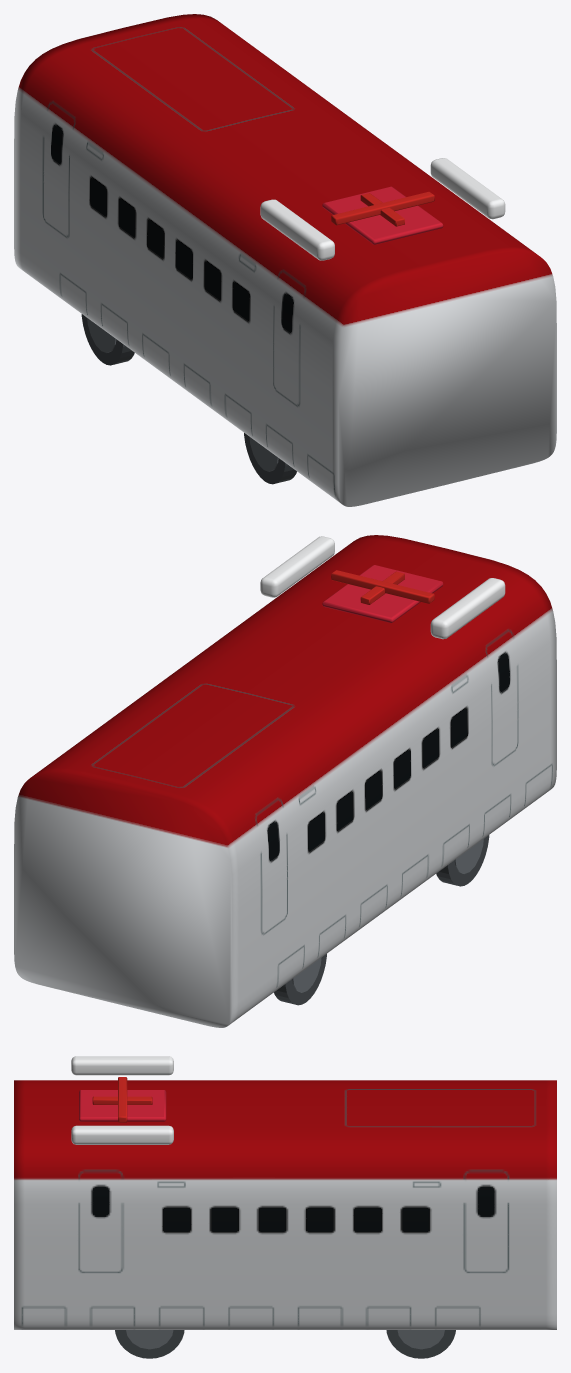
Rendered from Express_Red_Middle.fbx.
The picture shows the model from 3 angles, top to bottom: view 1: azimuth 30°, elevation 25°; view 2: azimuth 150°, elevation 25°; view 3: azimuth 270°, elevation 25°; orthographic projection. The views are drawn at different scales.
Parts seen in each view (by area): view 1: ER_Middle_Atlas shell, Pantograph base.001, Pantograph white noise shield, Pantograph white noise shield.001, Static fittings EG Photo red fittings, Static fittings EG wheel graphite.002, Static fittings EG hub grey.002; view 2: ER_Middle_Atlas shell, Pantograph base.001, Pantograph white noise shield.001, Pantograph white noise shield, Static fittings EG Photo red fittings, Static fittings EG wheel graphite.002, Static fittings EG hub grey.002; view 3: ER_Middle_Atlas shell, Pantograph base.001, Pantograph white noise shield.001, Pantograph white noise shield, Static fittings EG wheel graphite.002, Static fittings EG hub grey.002, Static fittings EG Photo red fittings.
Boxes of the visible parts, x1,y1,x2,y2 form: ER_Middle_Atlas shell: [14, 14, 556, 506]; Pantograph base.001: [322, 186, 443, 244]; Pantograph white noise shield: [430, 158, 505, 219]; Pantograph white noise shield.001: [260, 199, 334, 260]; Static fittings EG Photo red fittings: [331, 191, 434, 226]; Static fittings EG wheel graphite.002: [81, 314, 296, 484]; Static fittings EG hub grey.002: [87, 318, 278, 471]; ER_Middle_Atlas shell: [14, 535, 556, 1027]; Pantograph base.001: [322, 565, 443, 623]; Pantograph white noise shield.001: [430, 578, 505, 639]; Pantograph white noise shield: [260, 536, 334, 597]; Static fittings EG Photo red fittings: [331, 570, 434, 604]; Static fittings EG wheel graphite.002: [274, 835, 489, 1005]; Static fittings EG hub grey.002: [292, 839, 483, 992]; ER_Middle_Atlas shell: [14, 1080, 556, 1329]; Pantograph base.001: [79, 1090, 166, 1121]; Pantograph white noise shield.001: [71, 1056, 173, 1075]; Pantograph white noise shield: [71, 1125, 173, 1144]; Static fittings EG wheel graphite.002: [115, 1330, 455, 1358]; Static fittings EG hub grey.002: [126, 1330, 444, 1349]; Static fittings EG Photo red fittings: [92, 1077, 152, 1122].
Bounding box in the file's own units: 107 × 125 × 274.
7 materials, 1 textured.
